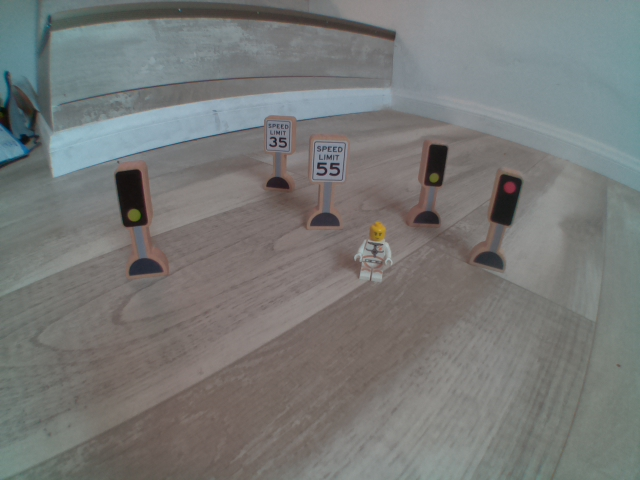Green Traffic Light: (111, 164, 152, 230), (423, 139, 450, 193)
Red Traffic Light: (486, 167, 524, 233)
Speed Limit 35: (262, 110, 294, 155)
Speed Limit 55: (309, 130, 350, 192)
person: (348, 218, 397, 293)
